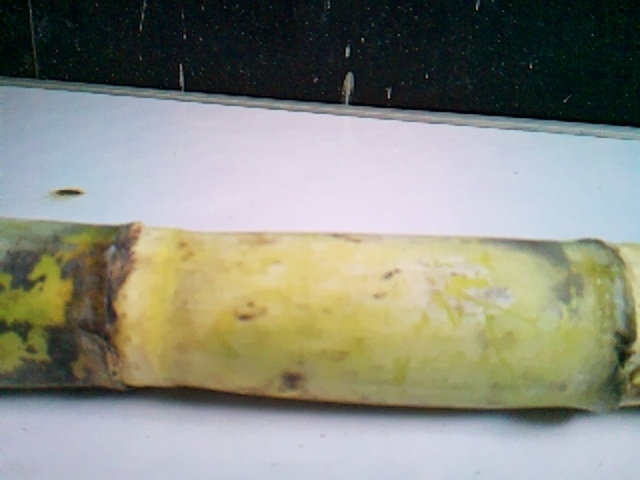Good Sugarcane: (2, 212, 640, 410)
Node: (70, 219, 173, 390), (565, 236, 640, 418)
